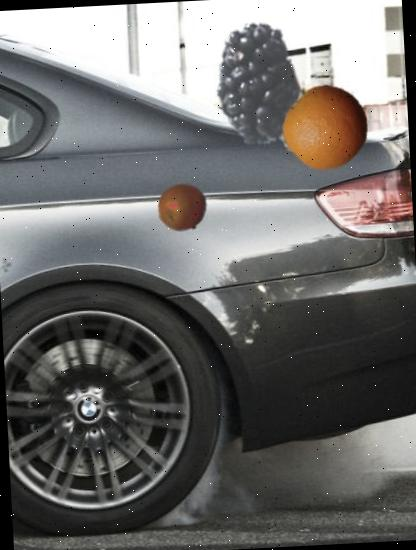Mulberry: (177, 23, 319, 165)
Orange: (282, 82, 372, 172)
Tangelo: (156, 180, 210, 234)
